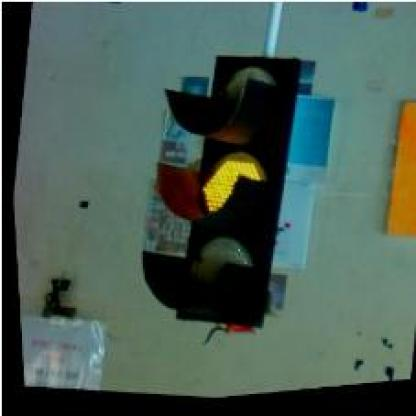yellow: (120, 42, 312, 339)
